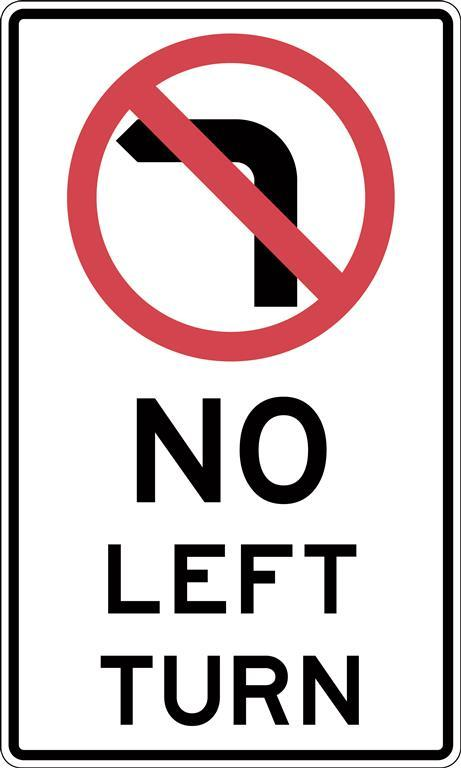no_left_turn: (64, 32, 394, 363)
